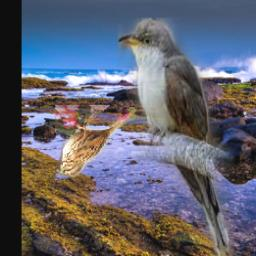Cuckoo: (117, 18, 233, 256)
Sparrow: (54, 105, 137, 178)
